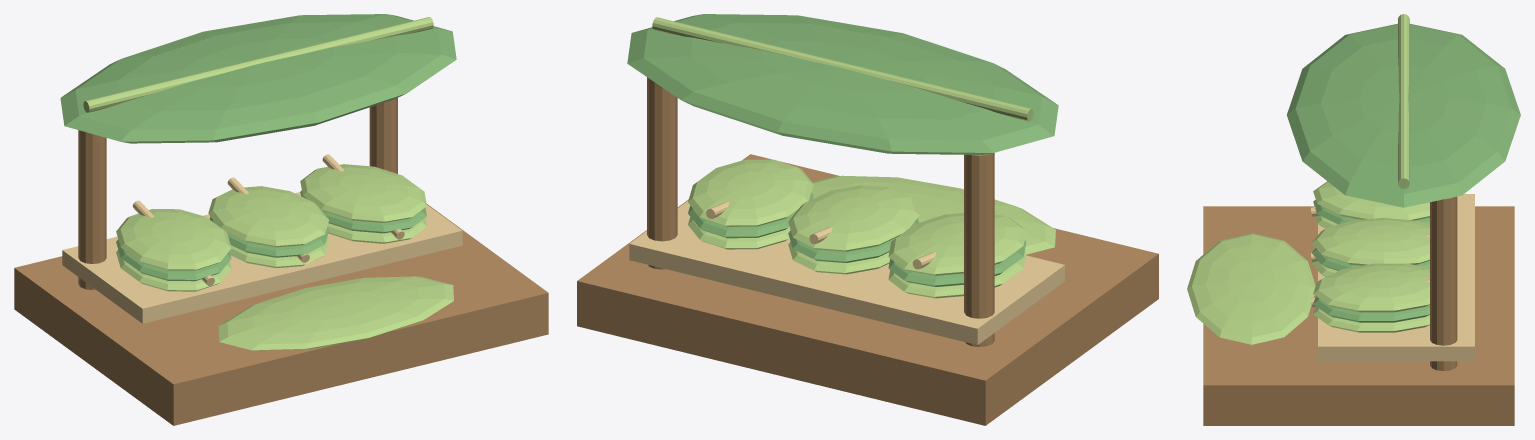
The model's file is LeafDepot.fbx.
3 views of the same model, side by side, from view 1: azimuth 30°, elevation 25°; view 2: azimuth 150°, elevation 25°; view 3: azimuth 270°, elevation 25° (orthographic). The views are drawn at different scales.
Visible parts, largest first — view 1: Depot wooden base, Leaf depot awning, Sorting shelf, Leaf sorting mat, Stacked leaf.008, Stacked leaf.005, Stacked leaf.002, Rack post, Awning vein, Rack post.001, Stacked leaf.001, Stacked leaf (+4 smaller); view 2: Depot wooden base, Leaf depot awning, Sorting shelf, Stacked leaf.005, Stacked leaf.008, Rack post, Rack post.001, Stacked leaf.002, Leaf sorting mat, Awning vein, Stacked leaf, Stacked leaf.001 (+4 smaller); view 3: Depot wooden base, Leaf depot awning, Leaf sorting mat, Sorting shelf, Stacked leaf.008, Stacked leaf.005, Rack post.001, Stacked leaf.002, Awning vein, Stacked leaf.006, Stacked leaf.007, Stacked leaf.004 (+1 smaller).
Boxes of the visible parts, <box> form: Depot wooden base: <box>14,204,548,425</box>; Leaf depot awning: <box>60,14,456,143</box>; Sorting shelf: <box>62,192,462,323</box>; Leaf sorting mat: <box>218,276,453,350</box>; Stacked leaf.008: <box>300,164,426,222</box>; Stacked leaf.005: <box>208,186,328,247</box>; Stacked leaf.002: <box>116,209,231,270</box>; Rack post: <box>78,130,106,289</box>; Awning vein: <box>83,17,433,112</box>; Rack post.001: <box>369,98,397,173</box>; Stacked leaf.001: <box>116,239,231,281</box>; Stacked leaf: <box>116,250,231,291</box>; Depot wooden base: <box>577,154,1158,425</box>; Leaf depot awning: <box>627,14,1058,154</box>; Sorting shelf: <box>629,201,1064,344</box>; Stacked leaf.005: <box>788,185,919,251</box>; Stacked leaf.008: <box>688,159,813,226</box>; Rack post: <box>964,153,994,346</box>; Rack post.001: <box>647,77,677,269</box>; Stacked leaf.002: <box>888,213,1026,275</box>; Leaf sorting mat: <box>811,175,1055,254</box>; Awning vein: <box>652,17,1033,121</box>; Stacked leaf: <box>888,252,1026,298</box>; Stacked leaf.001: <box>888,240,1026,286</box>; Depot wooden base: <box>1203,206,1514,425</box>; Leaf depot awning: <box>1287,23,1520,207</box>; Leaf sorting mat: <box>1187,233,1315,344</box>; Sorting shelf: <box>1318,194,1474,361</box>; Stacked leaf.008: <box>1313,263,1429,312</box>; Stacked leaf.005: <box>1312,218,1429,265</box>; Rack post.001: <box>1430,196,1457,370</box>; Stacked leaf.002: <box>1313,181,1429,220</box>; Awning vein: <box>1398,14,1409,188</box>; Stacked leaf.006: <box>1313,306,1429,332</box>; Stacked leaf.007: <box>1313,296,1429,322</box>; Stacked leaf.004: <box>1312,248,1429,270</box>.
Size of the model in its own units: 176 by 106 by 134.
